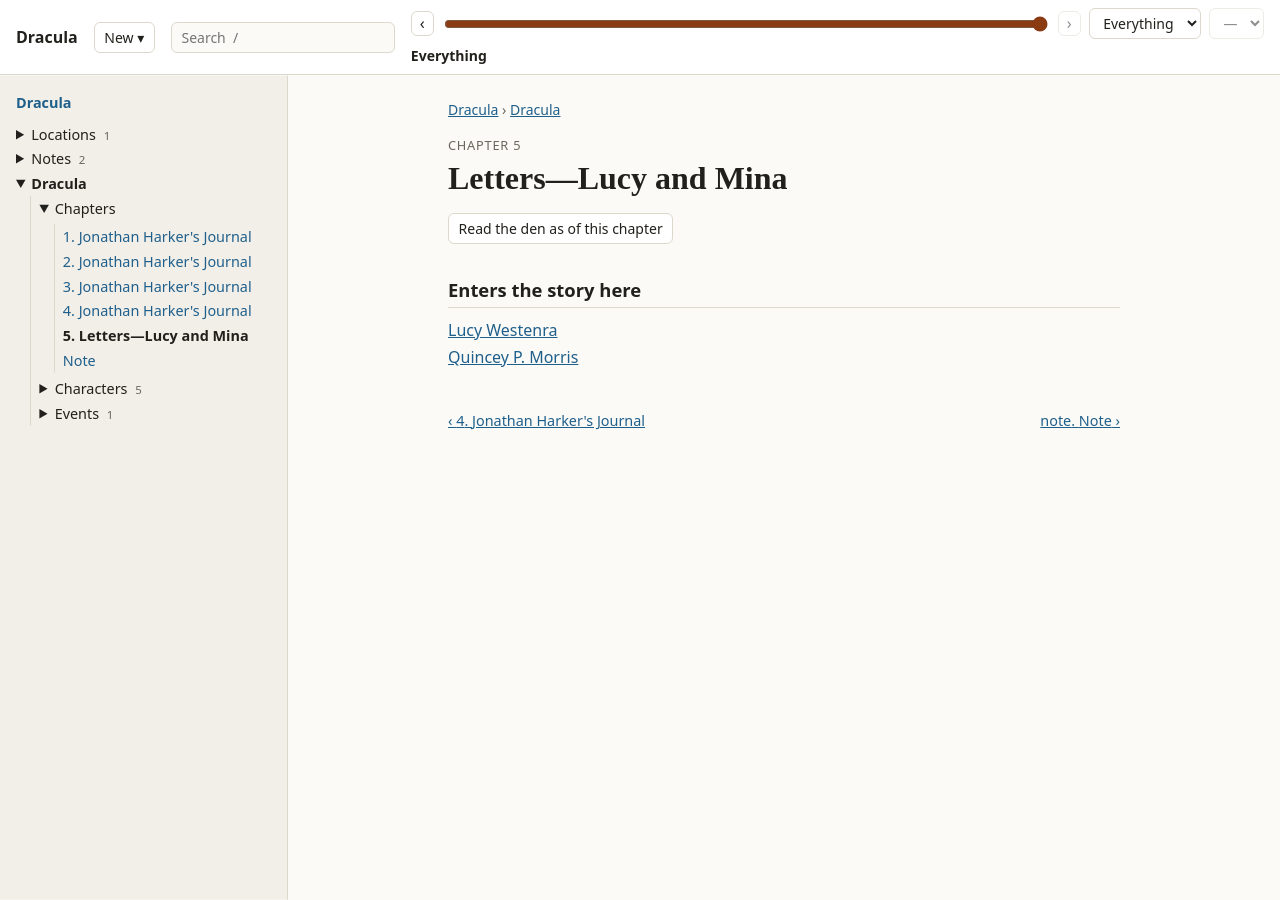
Scenario: SC-WEB-16: the chapter page › names the chapter, lists the notes that enter there, and reads the den as of it
Expected: the heading "Letters—Lucy and Mina" is shown, [448,160,788,196]
Expected: the text "Chapter 5" is shown, [448,136,521,154]
Click the button "Read the den as of this chapter": [561, 229] box [448,213,673,244]
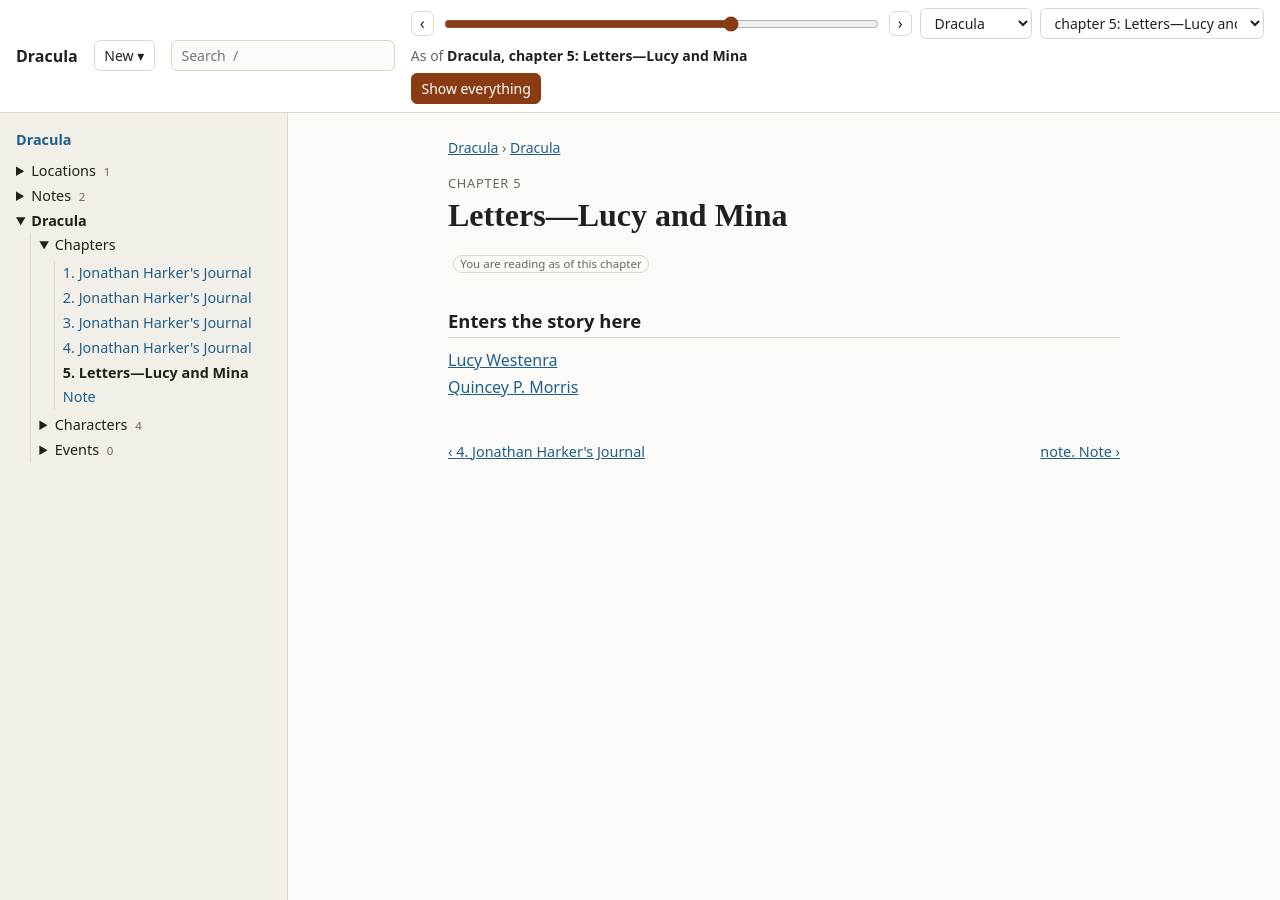
Expected: the text "You are reading as of this chapter" is shown, [453,255,649,273]
